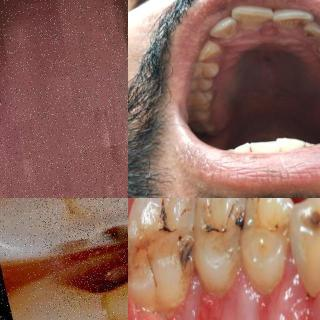Gum Swelling: (197, 287, 229, 320), (128, 298, 175, 320), (256, 290, 280, 320), (293, 310, 320, 320)
cavities: (54, 214, 128, 318), (139, 198, 195, 279), (202, 206, 248, 254)
maligned: (232, 2, 274, 36)
stains: (246, 198, 290, 262), (236, 12, 266, 32), (277, 14, 310, 30), (214, 22, 239, 38), (207, 39, 225, 57), (302, 26, 320, 44), (198, 89, 218, 105), (200, 60, 222, 74), (199, 72, 220, 86)
